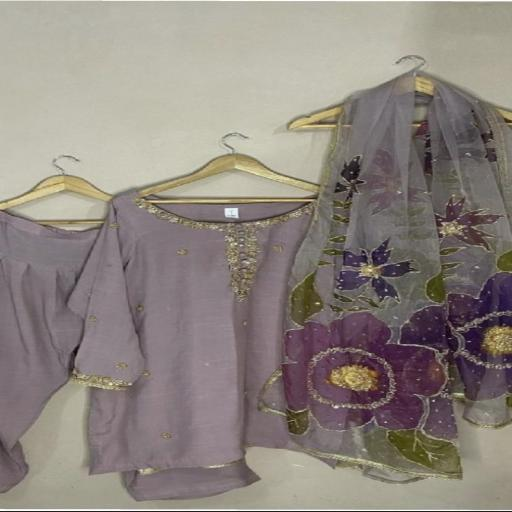Dupatta: (264, 69, 512, 488)
Kameez: (80, 182, 354, 479)
Shalwar: (0, 192, 220, 504)
